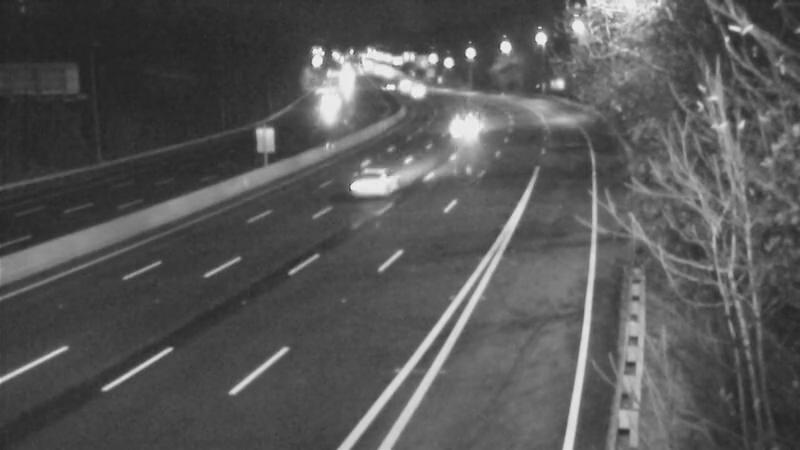vehicle: (338, 145, 418, 225), (399, 67, 449, 117), (431, 98, 481, 148), (307, 83, 357, 133)
